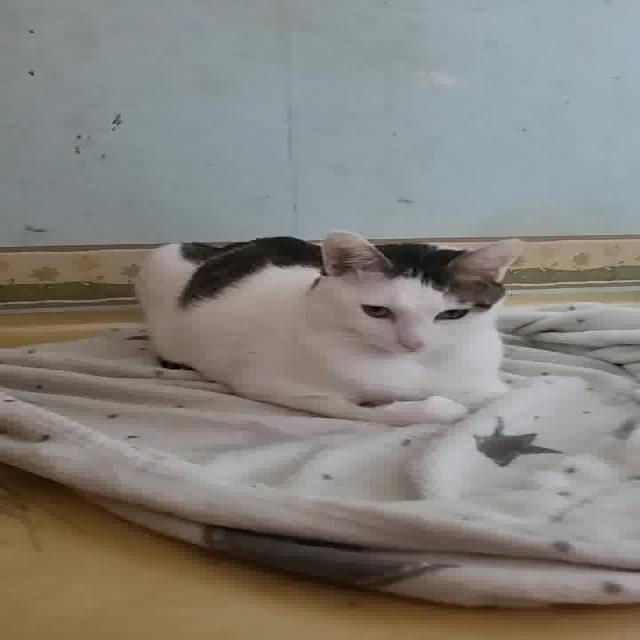cat: (130, 220, 526, 429)
